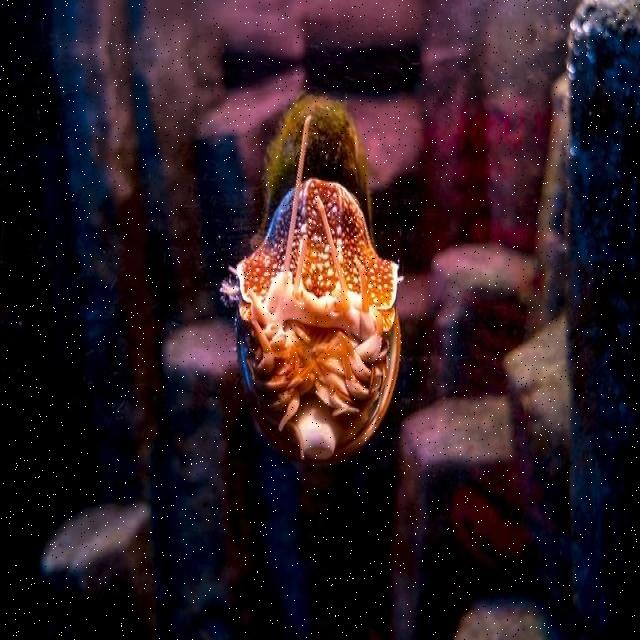reefs: (218, 95, 406, 464)
